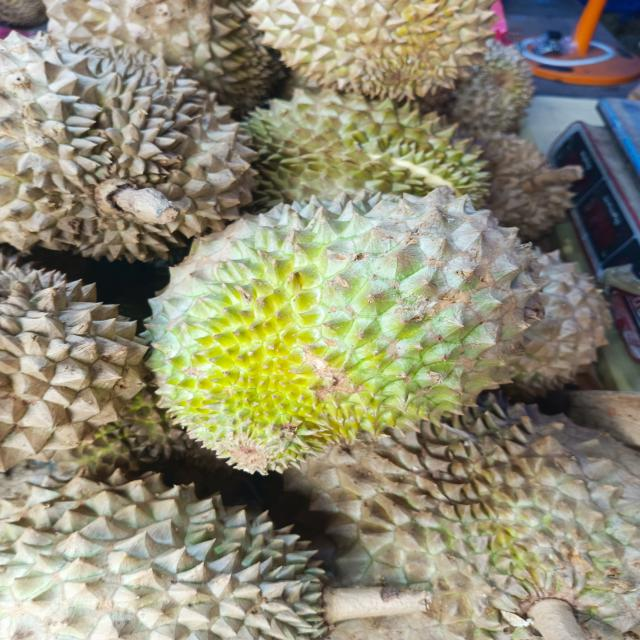defective: (247, 89, 488, 200)
mature: (140, 185, 614, 470), (290, 394, 640, 640), (0, 0, 270, 263), (0, 474, 325, 640), (0, 254, 148, 471), (248, 0, 494, 88)
